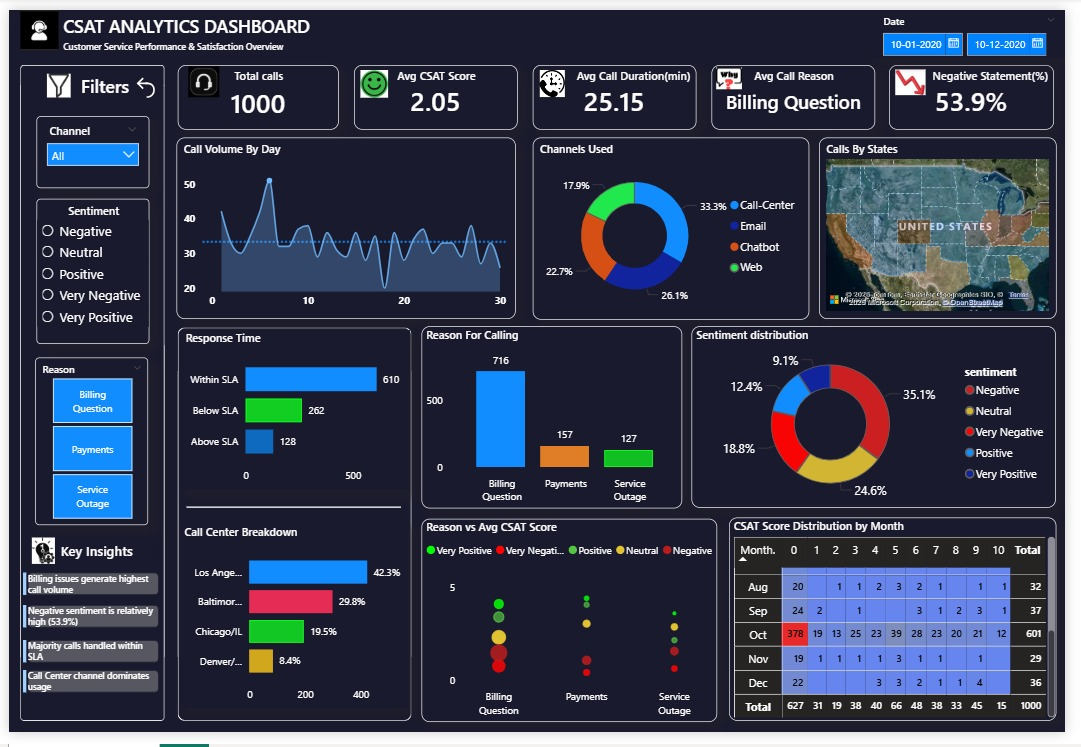

What the dashboard file says about the page in this screenshot:
{"tool":"powerbi","page":{"name":"CSAT Analytics","canvas":[1280,876],"ordinal":0},"visuals":[{"type":"shape","box":[205,385,283.3,476.7],"z":0},{"type":"textbox","box":[60,0,362.5,57.5],"z":1000},{"type":"image","box":[13.8,0,46.2,48.8],"z":2000},{"type":"cardVisual","title":"Total calls","fields":{"Data":["CountNonNull(CSAT Analytics.id)"]},"box":[205,66.2,195,78.8],"z":3000},{"type":"image","box":[205,68.8,63.8,37.5],"z":4000},{"type":"shape","box":[13.8,66.2,175,795],"z":5000},{"type":"cardVisual","title":"   Avg CSAT Score","fields":{"Data":["Avg(CSAT Analytics.csat_score)"]},"box":[418.5,66.2,198.5,78.5],"z":6000},{"type":"cardVisual","title":"Avg Call Duration(min)","fields":{"Data":["Avg(CSAT Analytics.call_duration_in_minutes)"]},"box":[635.4,66.2,198.5,78.5],"z":7000},{"type":"cardVisual","title":"       Avg Call Reason","fields":{"Data":["CSAT Analytics.Top Reason"]},"box":[850.8,66.2,198.5,78.5],"z":8000},{"type":"cardVisual","title":"Negative Statement(%)","fields":{"Data":["CSAT Analytics.% Negative Sentiment"]},"box":[1066.2,66.2,200,78.5],"z":9000},{"type":"image","box":[422.5,72.5,40,33.8],"z":10000},{"type":"image","box":[640,72.5,38.8,32.5],"z":11000},{"type":"image","box":[850,70,45,26.2],"z":12000},{"type":"image","box":[1073.8,70.8,36.9,32.3],"z":13000},{"type":"lineChart","title":"Call Volume By Day","fields":{"Y":["CSAT Analytics.Total Calls"],"Category":["CSAT Analytics.Call_Day"]},"box":[202.5,155,411.2,220],"z":14000},{"type":"donutChart","title":"Channels Used","fields":{"Y":["CSAT Analytics.Total Calls"],"Category":["CSAT Analytics.channel"]},"box":[635.5,154.8,335.5,221],"z":15000},{"type":"filledMap","title":"Calls By States","fields":{"Category":["CSAT Analytics.state"]},"box":[981.5,153.8,287.7,220],"z":16000},{"type":"clusteredColumnChart","title":"Reason For Calling","fields":{"Y":["CSAT Analytics.Total Calls"],"Category":["CSAT Analytics.reason"]},"box":[500,383.9,316.1,221],"z":17000},{"type":"clusteredBarChart","title":"Response Time","fields":{"Y":["CSAT Analytics.Total Calls"],"Category":["CSAT Analytics.response_time"]},"box":[208.3,388.3,276.7,193.3],"z":18000},{"type":"shape","box":[215,581.7,260,41.7],"z":19000},{"type":"clusteredBarChart","title":"Call Center Breakdown","fields":{"Y":["CSAT Analytics.Total Calls"],"Category":["CSAT Analytics.call_center"]},"box":[208.2,623,277,223],"z":20000},{"type":"donutChart","title":"Sentiment distribution","fields":{"Y":["CSAT Analytics.Total Calls"],"Category":["CSAT Analytics.sentiment"]},"box":[827.7,383.1,441.5,220],"z":21000},{"type":"pivotTable","title":"CSAT Score Distribution by Month","fields":{"Values":["CSAT Analytics.Total Calls"],"Columns":["CSAT Analytics.csat_score"],"Rows":["CSAT Analytics.Month."]},"box":[872.6,614.5,396.8,246.8],"z":22000},{"type":"scatterChart","title":"Reason vs Avg CSAT Score","fields":{"Y":["Avg(CSAT Analytics.csat_score)"],"Series":["CSAT Analytics.sentiment"],"X":["CSAT Analytics.reason"],"Size":["CSAT Analytics.Total Calls"]},"box":[500,616.1,358.1,246.8],"z":23000},{"type":"textbox","box":[59.7,72.6,114.5,45.2],"z":24000},{"type":"slicer","title":"Channel","fields":{"Values":["CSAT Analytics.channel"]},"box":[33.9,129,137.1,87.1],"z":25000},{"type":"slicer","title":"Reason","fields":{"Values":["CSAT Analytics.reason"]},"box":[32.3,421,137.1,203.2],"z":26000},{"type":"listSlicer","title":"Sentiment","fields":{"Values":["CSAT Analytics.sentiment"]},"box":[33.9,229,137.1,175.8],"z":27000},{"type":"image","box":[37.1,77.4,48.4,29],"z":28000},{"type":"slicer","fields":{"Values":["CSAT Analytics.Call_date"]},"box":[1046.8,0,233.9,58.1],"z":29000},{"type":"textbox","box":[57.4,639.7,122.1,32.4],"z":30000},{"type":"group","id":"g1","title":"Group 1","box":[12,681.9,170,27.5],"z":31000},{"type":"shape","box":[23.2,681.9,158.8,27.5],"z":31000,"group":"g1"},{"type":"shape","box":[23.2,721.9,158.8,27.5],"z":31000,"group":"g4"},{"type":"shape","box":[23.2,763.2,158.8,27.5],"z":31000,"group":"g2"},{"type":"shape","box":[23.2,799.4,158.8,27.5],"z":31000,"group":"g3"},{"type":"shape","box":[12,681.9,13.8,27.5],"z":32000,"group":"g1"},{"type":"shape","box":[12,721.9,13.8,27.5],"z":32000,"group":"g4"},{"type":"group","id":"g2","title":"Group 1","box":[12,763.2,170,27.5],"z":32000},{"type":"shape","box":[12,763.2,13.8,27.5],"z":32000,"group":"g2"},{"type":"shape","box":[12,799.4,13.8,27.5],"z":32000,"group":"g3"},{"type":"group","id":"g3","title":"Group 1","box":[12,799.4,170,27.5],"z":33000},{"type":"group","id":"g4","title":"Group 1","box":[12,721.9,170,27.5],"z":34000},{"type":"actionButton","box":[148.8,75,35,36.2],"z":35000},{"type":"image","box":[19.1,639.7,44.1,32.4],"z":36000}]}

Visuals, with their boxes in screenshot pixels (x1, y1, x2, y2), scaled from the page's 1280x876 canvas onto the 1081x747 screenshot:
shape: 173, 328, 412, 735
textbox: 51, 0, 357, 49
image: 12, 0, 51, 42
"Total calls" cardVisual: 173, 56, 338, 124
image: 173, 59, 227, 91
shape: 12, 56, 159, 734
"   Avg CSAT Score" cardVisual: 353, 56, 521, 123
"Avg Call Duration(min)" cardVisual: 537, 56, 704, 123
"       Avg Call Reason" cardVisual: 719, 56, 886, 123
"Negative Statement(%)" cardVisual: 900, 56, 1069, 123
image: 357, 62, 391, 91
image: 540, 62, 573, 90
image: 718, 60, 756, 82
image: 907, 60, 938, 88
"Call Volume By Day" lineChart: 171, 132, 518, 320
"Channels Used" donutChart: 537, 132, 820, 320
"Calls By States" filledMap: 829, 131, 1072, 319
"Reason For Calling" clusteredColumnChart: 422, 327, 689, 516
"Response Time" clusteredBarChart: 176, 331, 410, 496
shape: 182, 496, 401, 532
"Call Center Breakdown" clusteredBarChart: 176, 531, 410, 721
"Sentiment distribution" donutChart: 699, 327, 1072, 514
"CSAT Score Distribution by Month" pivotTable: 737, 524, 1072, 734
"Reason vs Avg CSAT Score" scatterChart: 422, 525, 725, 736
textbox: 50, 62, 147, 100
"Channel" slicer: 29, 110, 144, 184
"Reason" slicer: 27, 359, 143, 532
"Sentiment" listSlicer: 29, 195, 144, 345
image: 31, 66, 72, 91
slicer - CSAT Analytics.Call_date: 884, 0, 1080, 50
textbox: 48, 545, 152, 573
"Group 1" group: 10, 581, 154, 605
shape: 20, 581, 154, 605
shape: 20, 616, 154, 639
shape: 20, 651, 154, 674
shape: 20, 682, 154, 705
shape: 10, 581, 22, 605
shape: 10, 616, 22, 639
"Group 1" group: 10, 651, 154, 674
shape: 10, 651, 22, 674
shape: 10, 682, 22, 705
"Group 1" group: 10, 682, 154, 705
"Group 1" group: 10, 616, 154, 639
actionButton: 126, 64, 155, 95
image: 16, 545, 53, 573
